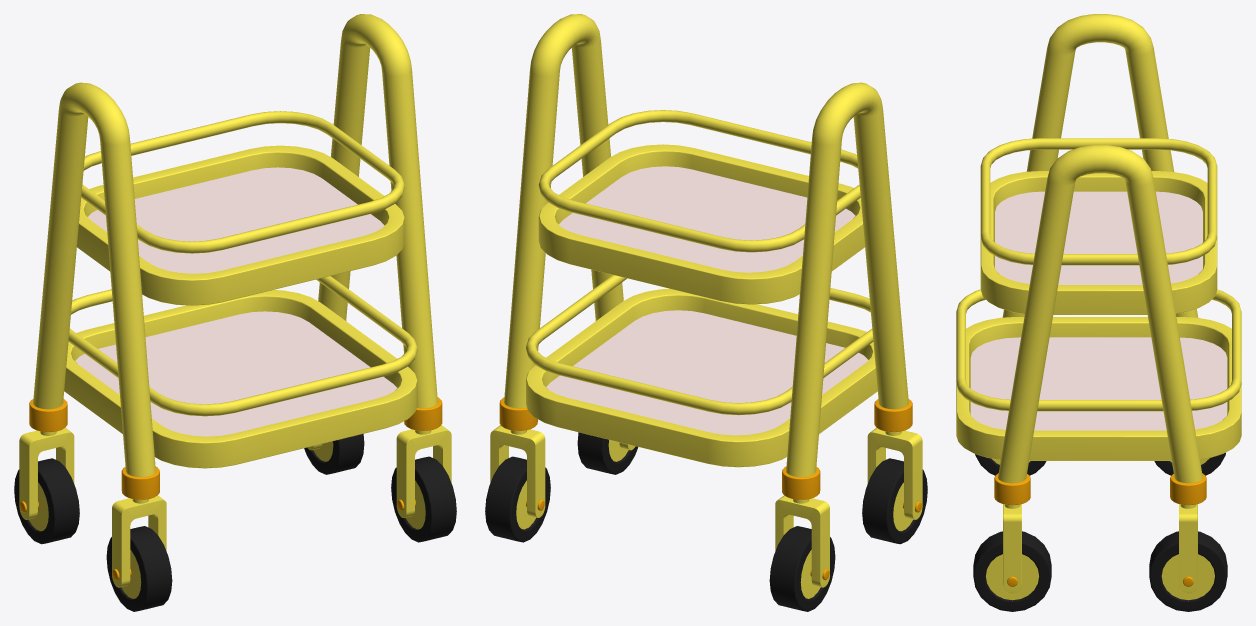
File: Store_20_Food_Cart_1.glb
3 views of the same model, side by side, from view 1: azimuth 30°, elevation 25°; view 2: azimuth 150°, elevation 25°; view 3: azimuth 270°, elevation 25° (orthographic). The views are drawn at different scales.
Parts seen in each view (by area): view 1: Store_20_Food_Cart_1; view 2: Store_20_Food_Cart_1; view 3: Store_20_Food_Cart_1.
Boxes of the visible parts, x1,y1,x2,y2 form: Store_20_Food_Cart_1: (14, 14, 456, 611); Store_20_Food_Cart_1: (485, 14, 927, 611); Store_20_Food_Cart_1: (956, 14, 1241, 611).
Bounding box in the file's own units: 0.9332 × 1.29 × 0.7265.
1 material, 1 textured.
